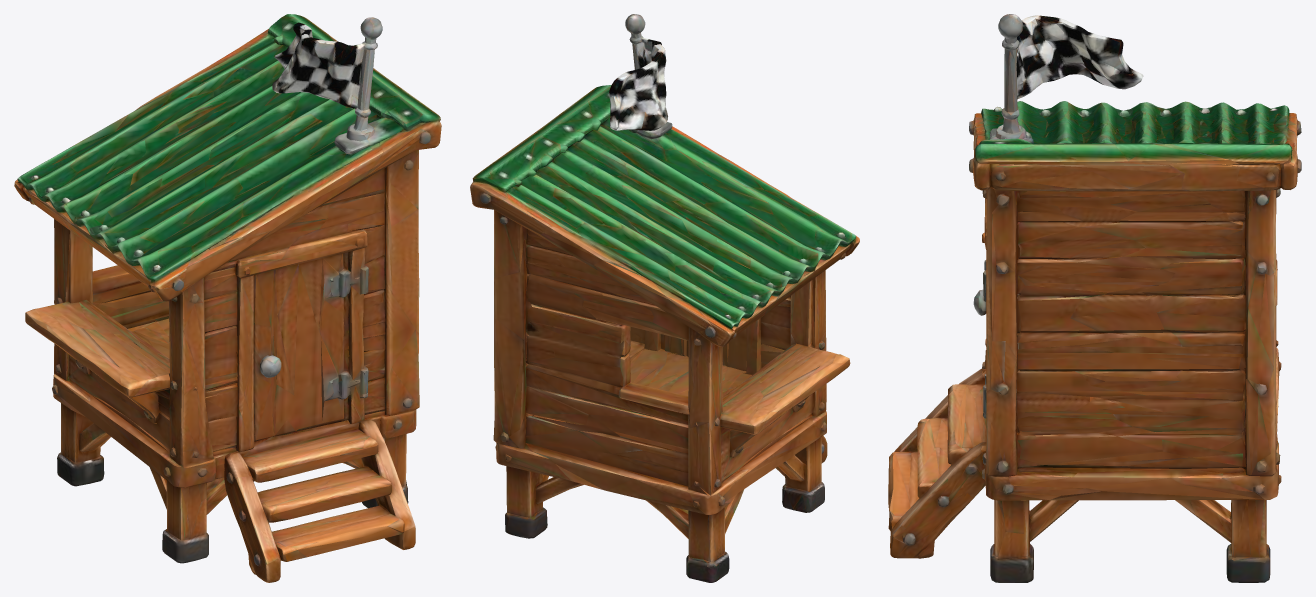
The model's file is prop_hut.glb.
The picture shows the model from 3 angles, left to right: view 1: azimuth 30°, elevation 25°; view 2: azimuth 150°, elevation 25°; view 3: azimuth 270°, elevation 25°; orthographic projection. The views are drawn at different scales.
Bounding box in the file's own units: 1.2 × 1.9 × 1.29.
Materials: 1 (1 with a texture image).
